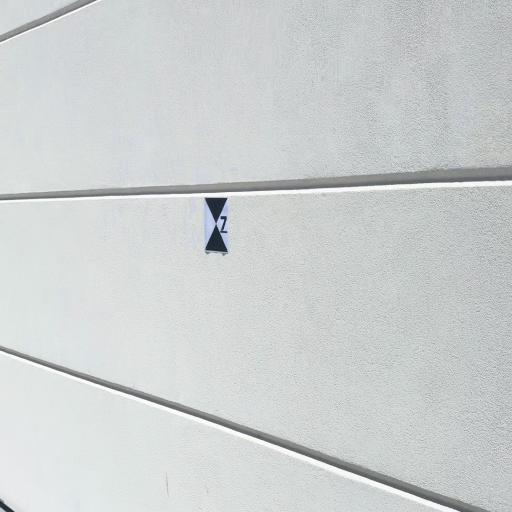target7: (204, 197, 229, 253)
